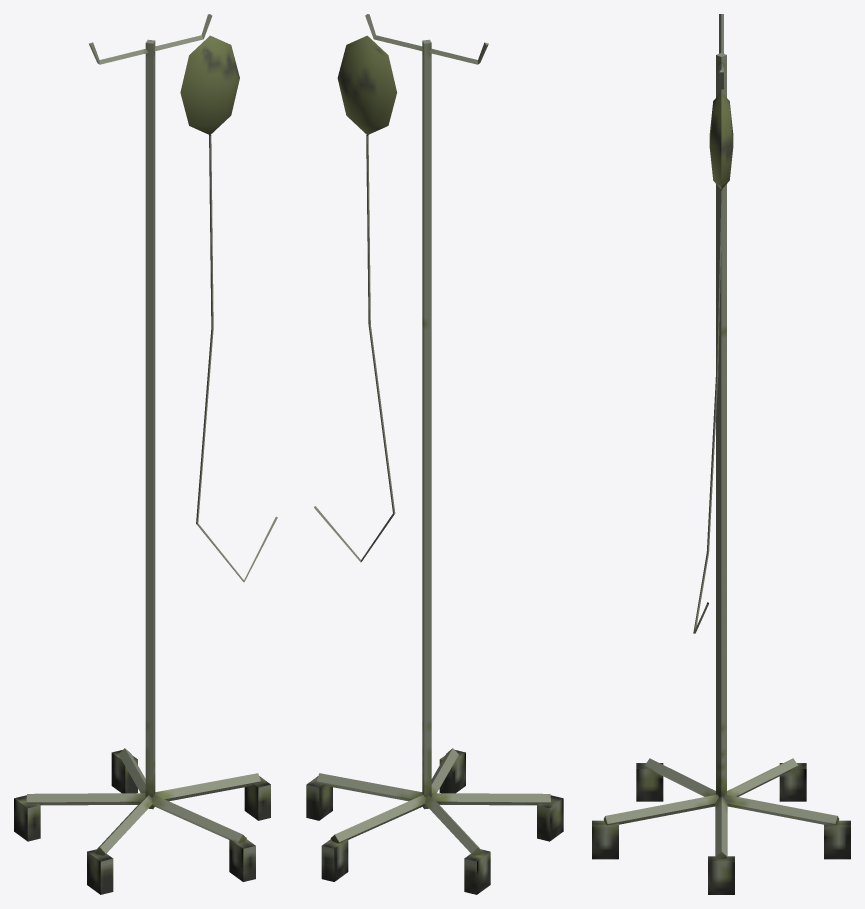
Rendered from IV_Stand_01.fbx.
3 views of the same model, side by side, from view 1: azimuth 30°, elevation 25°; view 2: azimuth 150°, elevation 25°; view 3: azimuth 270°, elevation 25° (orthographic).
Parts seen in each view (by area): view 1: IV_Stand_01; view 2: IV_Stand_01; view 3: IV_Stand_01.
Part boxes in pixels (<box>): IV_Stand_01: <box>14,14,277,894</box>; IV_Stand_01: <box>306,14,563,894</box>; IV_Stand_01: <box>592,14,850,894</box>.
Size of the model in its own units: 0.5363 by 1.95 by 0.5736.
Materials: 1 (1 with a texture image).
